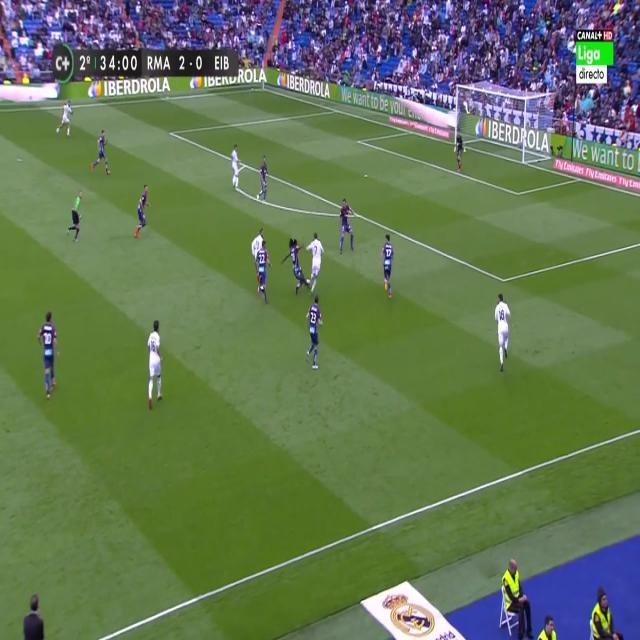Goalkeeper: (454, 127, 467, 175)
Player: (38, 310, 62, 400), (144, 315, 166, 411), (492, 291, 512, 376), (280, 236, 309, 294), (306, 292, 324, 376), (129, 178, 151, 244), (88, 127, 114, 180), (338, 193, 356, 256), (255, 238, 272, 304), (306, 232, 324, 290), (54, 98, 75, 143), (381, 231, 394, 302), (229, 143, 244, 193), (247, 224, 266, 258), (255, 157, 268, 206)
Referee: (66, 190, 84, 245)
